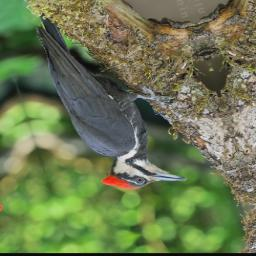Woodpecker: (20, 0, 201, 209)
